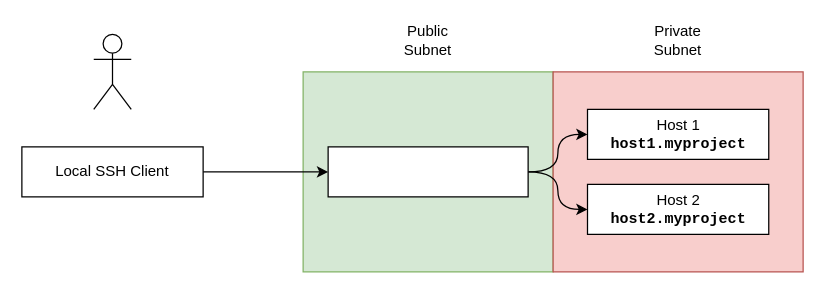
Image size: 825x294. Some labels were removed from this diagram. Here are the shapes that lost their labels. From the top down, the centre of each, then its label:
At [111,71]: "Operator".
At [427,171]: "Bastion bastion.myproject.com".
